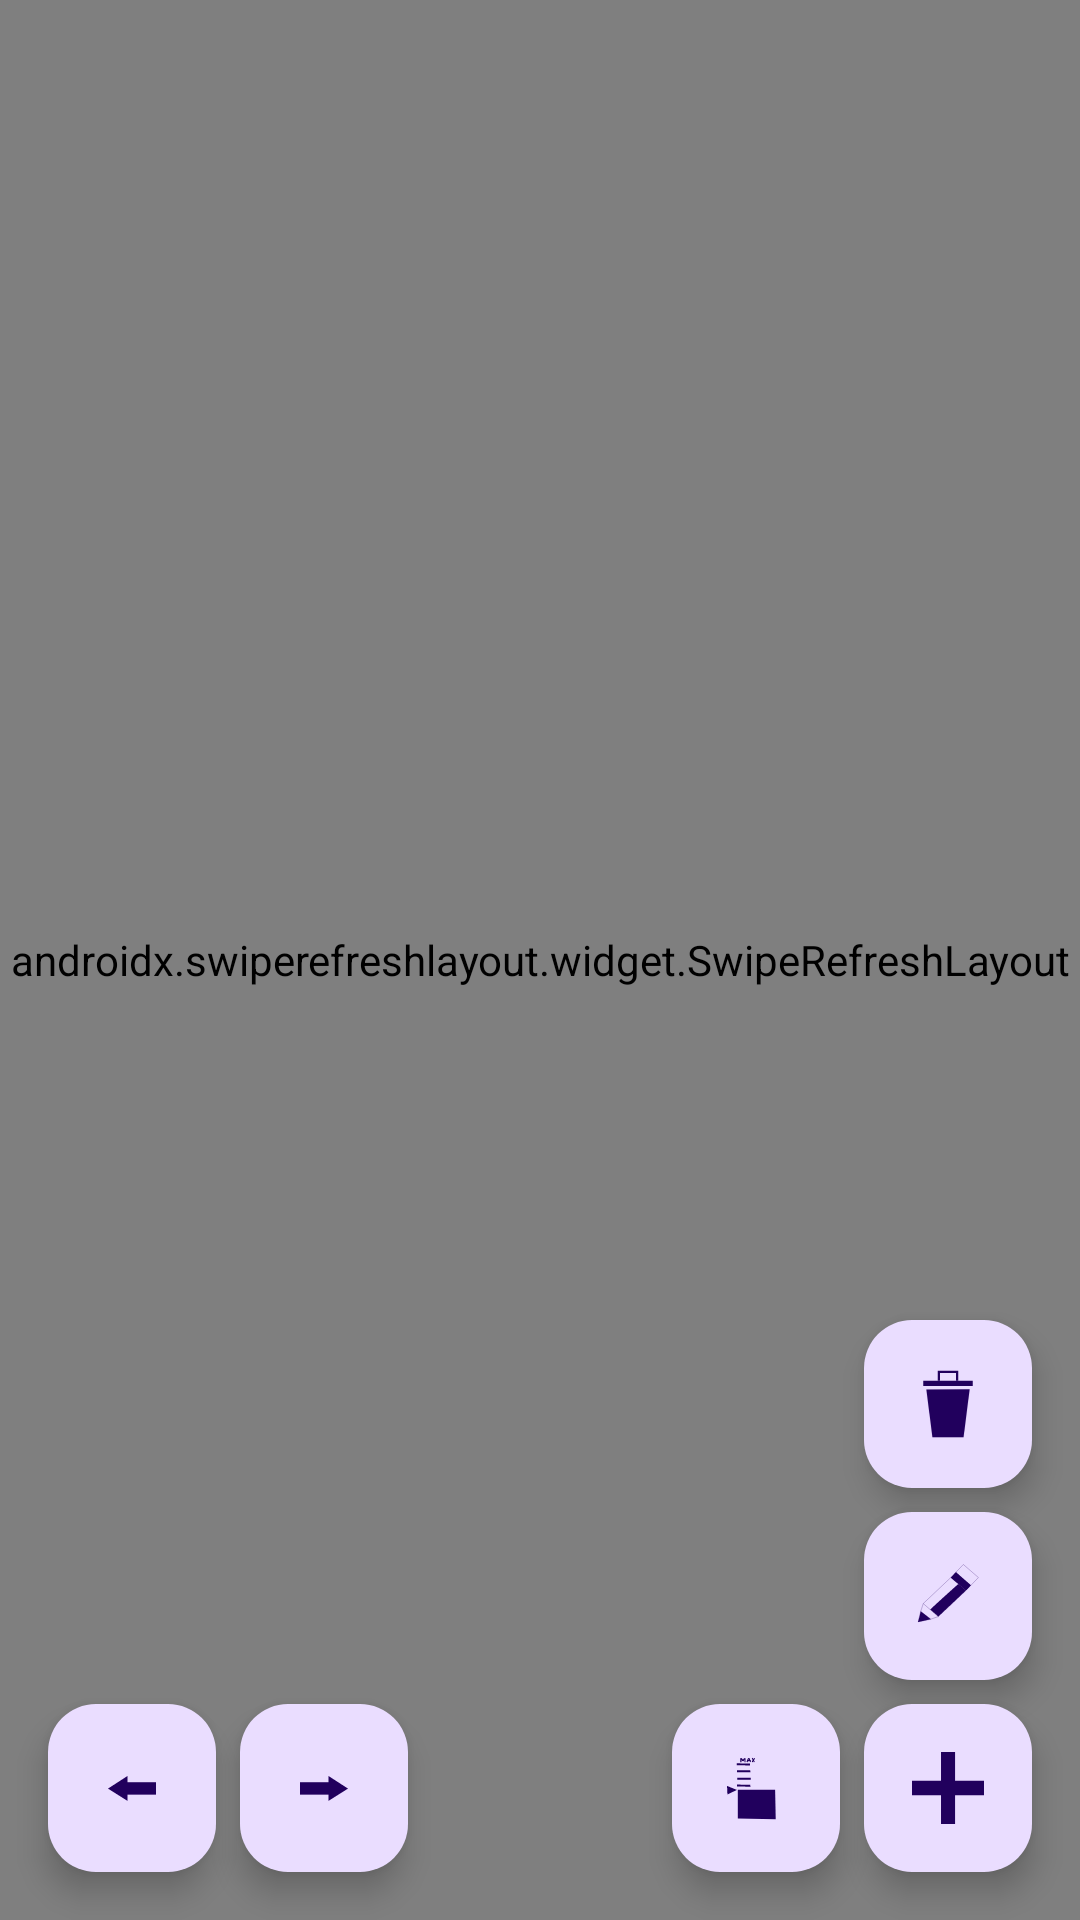

Where to tap for icons on this 1080x1920 app screen, as (x=x, y=y):
Add: (x=948, y=1788)
Back: (x=132, y=1788)
Edit storage: (x=948, y=1596)
Next: (x=324, y=1788)
Remove: (x=948, y=1404)
Storage limit: (x=756, y=1788)
